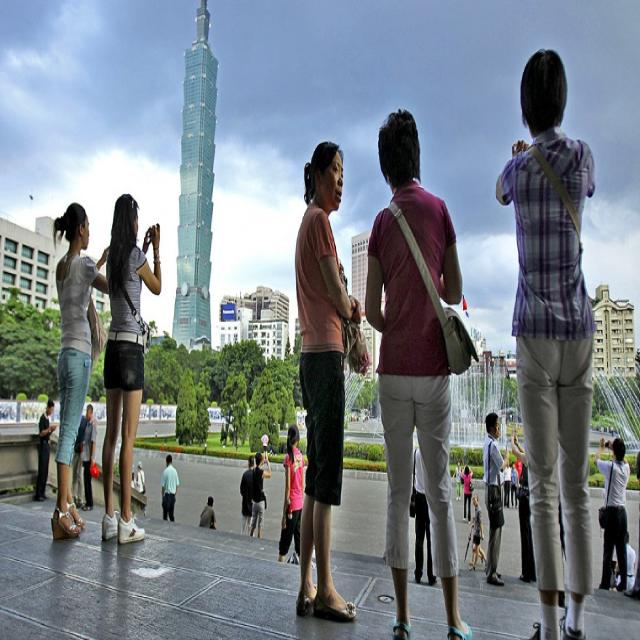body: (361, 104, 481, 639), (492, 44, 598, 639), (291, 136, 375, 624), (99, 192, 162, 546), (50, 201, 110, 546), (593, 436, 631, 594), (481, 410, 507, 589), (408, 445, 438, 586), (277, 423, 306, 564), (512, 428, 536, 584), (32, 397, 58, 503), (623, 448, 640, 603), (71, 414, 99, 508), (249, 450, 272, 540), (80, 403, 98, 513), (468, 491, 490, 574), (614, 528, 637, 594), (161, 452, 181, 523), (240, 454, 256, 538), (557, 492, 567, 608), (458, 462, 475, 526), (198, 494, 218, 530), (608, 544, 622, 591), (470, 520, 483, 567), (590, 419, 621, 436), (510, 460, 520, 510), (452, 458, 463, 501), (503, 458, 512, 508), (135, 460, 146, 494), (498, 460, 505, 511), (260, 430, 269, 464), (514, 454, 524, 481), (268, 440, 277, 458), (130, 464, 136, 490)
